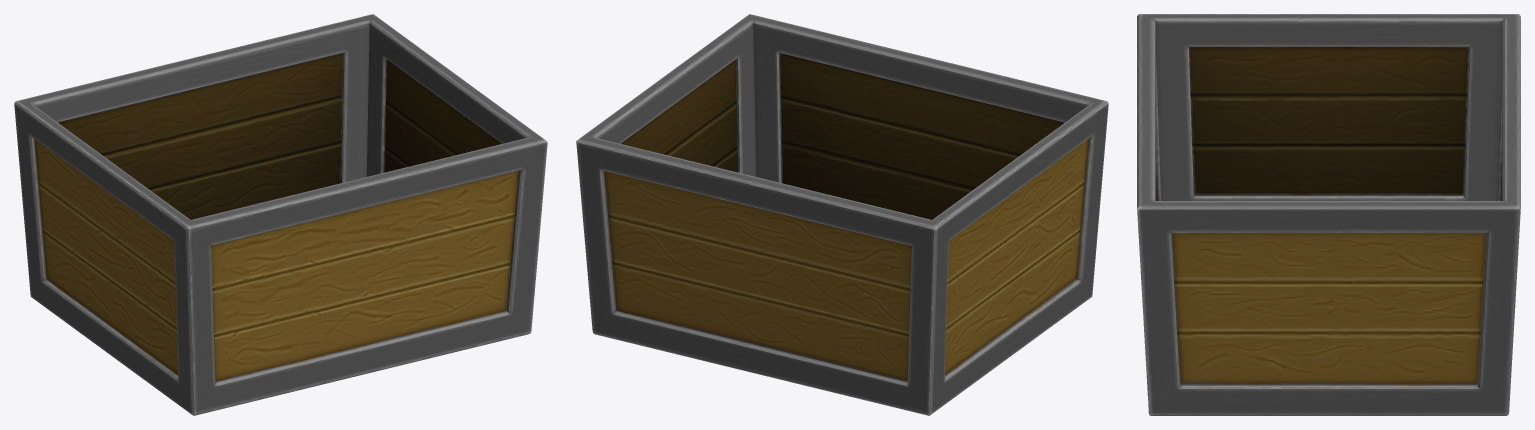
The model's file is CaseTris.fbx.
The picture shows the model from 3 angles, left to right: view 1: azimuth 30°, elevation 25°; view 2: azimuth 150°, elevation 25°; view 3: azimuth 270°, elevation 25°; orthographic projection. The views are drawn at different scales.
Parts seen in each view (by area): view 1: CaseTris_LOD0; view 2: CaseTris_LOD0; view 3: CaseTris_LOD0.
Part boxes in pixels (bbox=[...]): CaseTris_LOD0: bbox=[14, 14, 547, 415]; CaseTris_LOD0: bbox=[576, 14, 1108, 415]; CaseTris_LOD0: bbox=[1137, 14, 1520, 415].
Size of the model in its own units: 67.44 by 56.37 by 35.02.
Materials: 1 (1 with a texture image).
